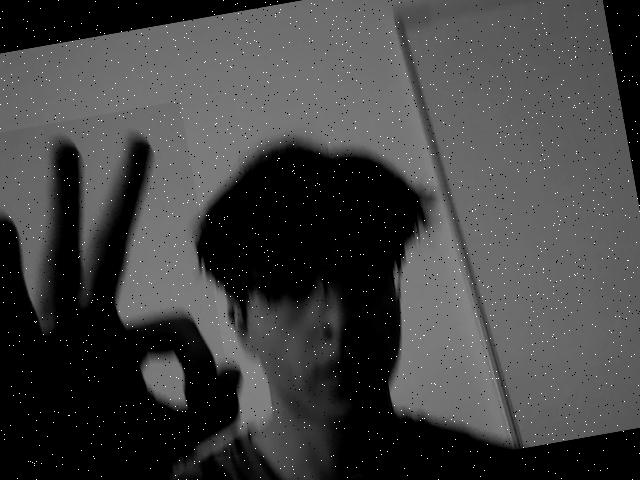OK: (0, 100, 241, 480)
